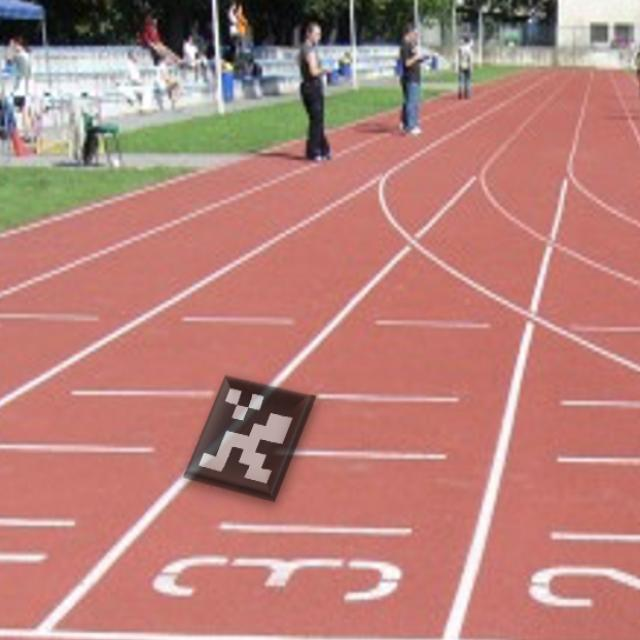marker: (181, 367, 320, 511)
